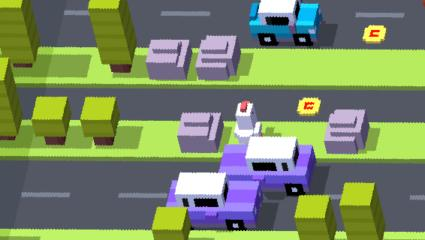hen: (233, 100, 264, 144)
obstacle: (167, 171, 264, 229), (220, 138, 315, 196), (88, 0, 139, 73), (248, 0, 325, 48), (0, 0, 41, 66), (340, 182, 383, 240), (324, 109, 372, 154), (80, 96, 120, 147), (196, 35, 240, 79), (31, 97, 71, 145), (177, 112, 225, 152), (146, 40, 193, 80), (0, 59, 23, 140), (296, 195, 336, 240), (151, 206, 191, 238)
